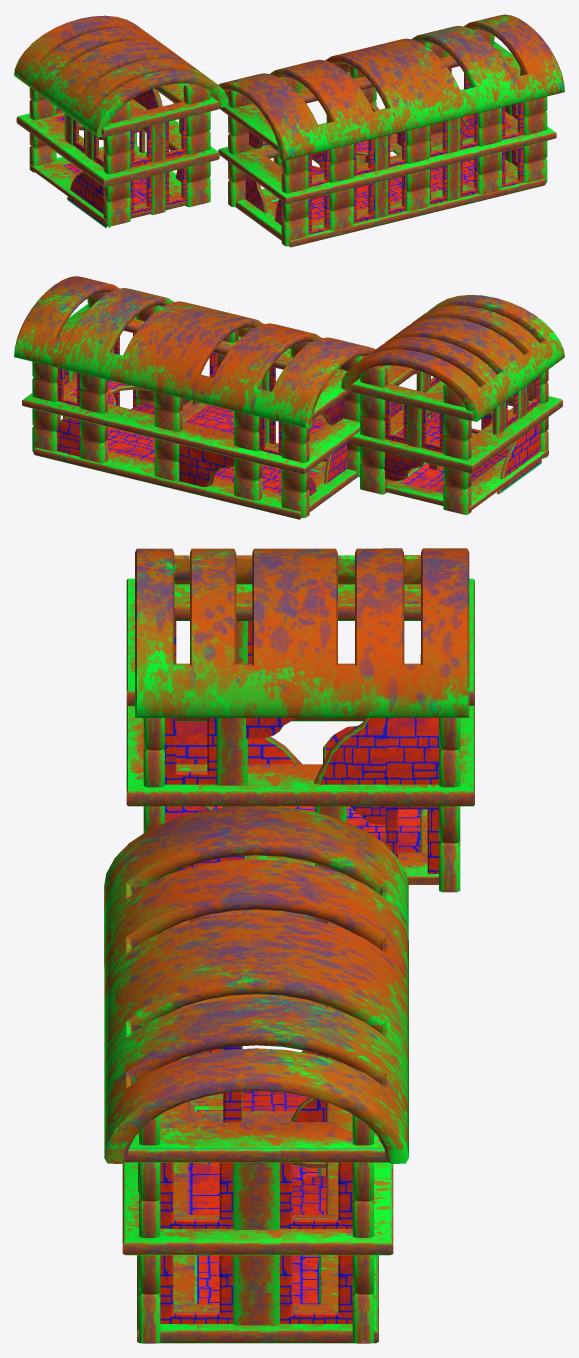
File: Big Temple 2.fbx
3 renders of one model, top to bottom at view 1: azimuth 30°, elevation 25°; view 2: azimuth 150°, elevation 25°; view 3: azimuth 270°, elevation 25°, orthographic. The views are drawn at different scales.
Visible parts, largest first — view 1: Ruins; view 2: Ruins; view 3: Ruins.
Part boxes in pixels (bbox=[...]): Ruins: bbox=[14, 14, 564, 247]; Ruins: bbox=[14, 276, 564, 519]; Ruins: bbox=[104, 548, 474, 1343].
Bounding box in the file's own units: 5230 × 2169 × 1822.
